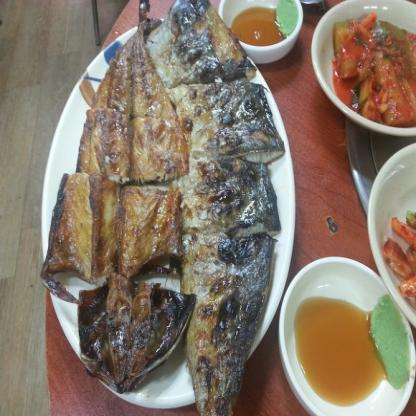Peixe: (40, 0, 278, 416)
